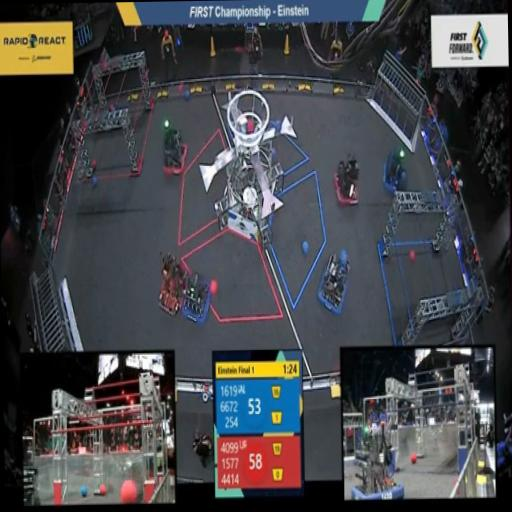robot: (152, 240, 190, 320), (314, 250, 352, 318), (180, 266, 214, 330), (380, 143, 408, 199), (160, 128, 188, 178), (334, 158, 360, 208)
